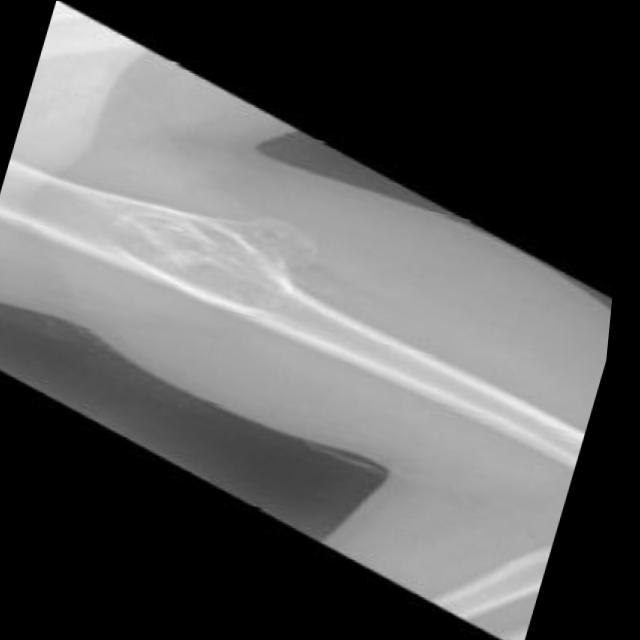fracture: (96, 188, 304, 342)
